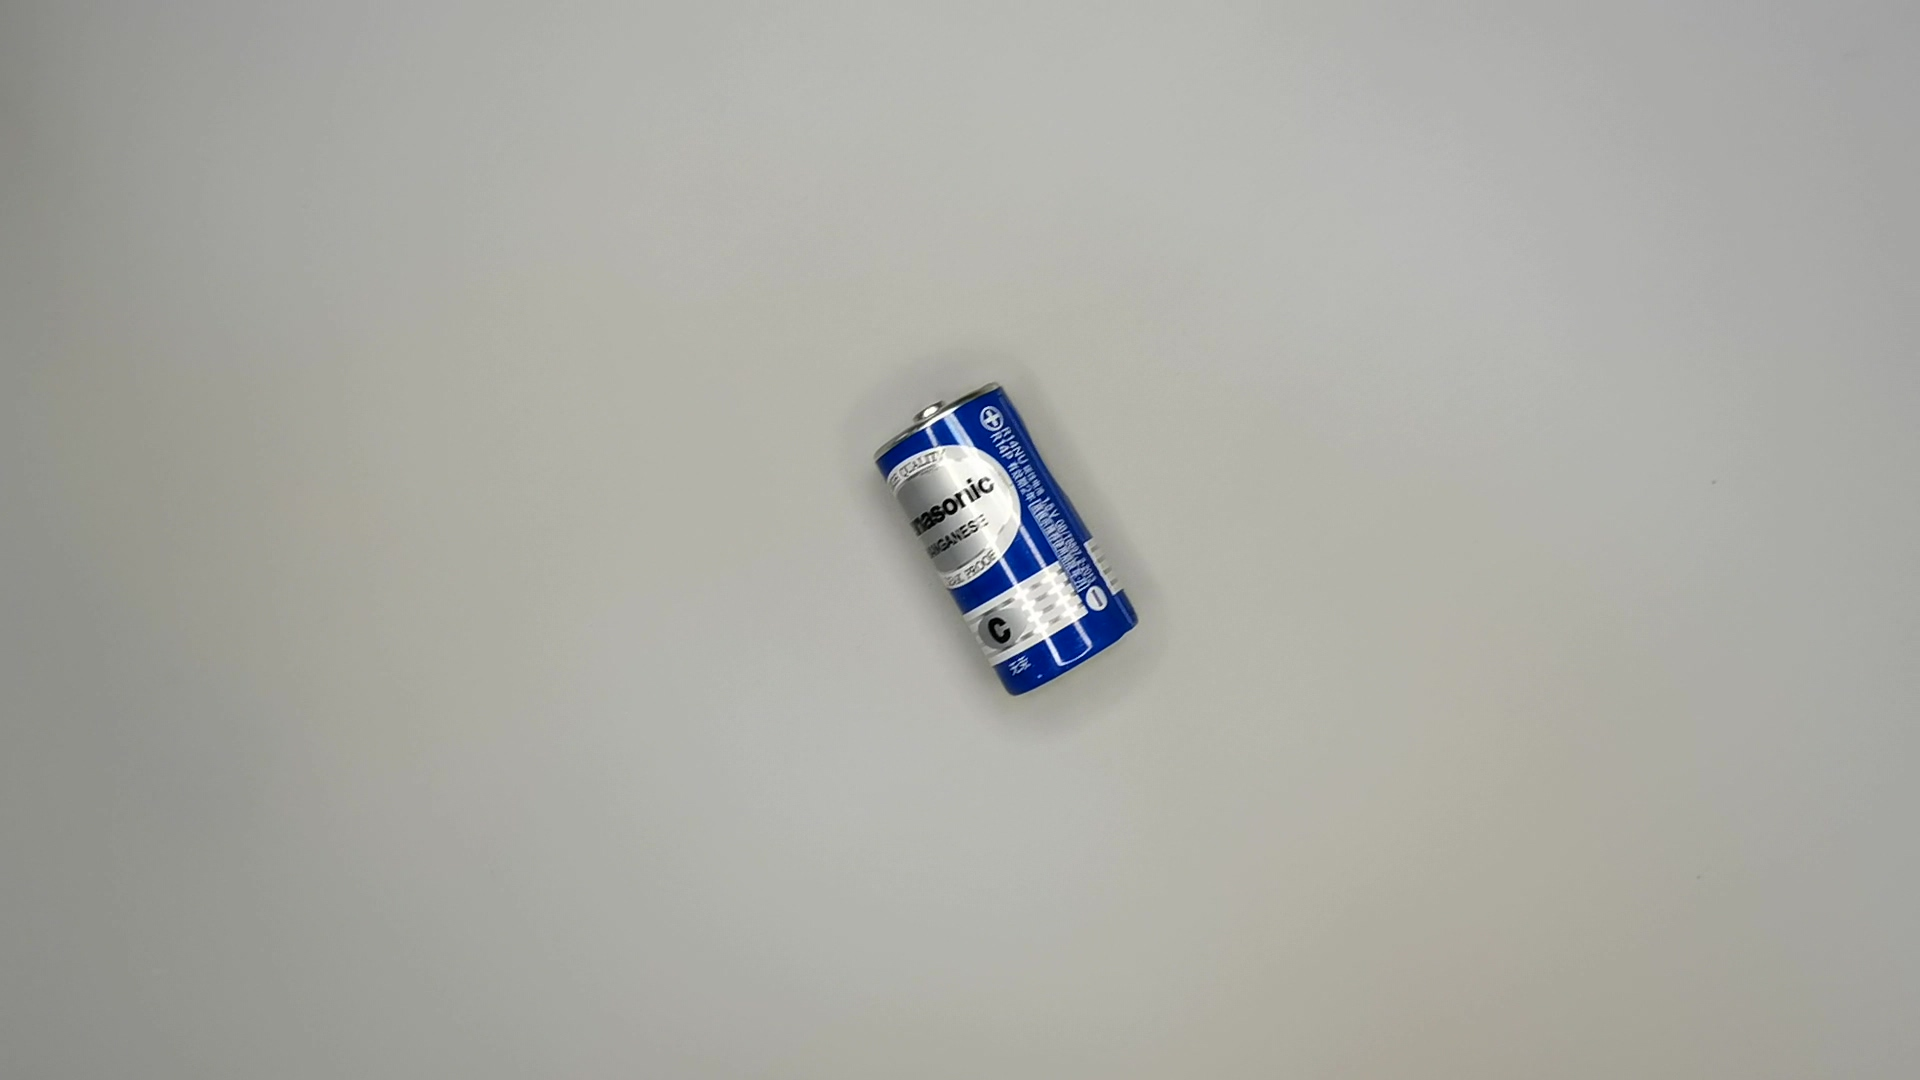battery: (866, 378, 1153, 700)
